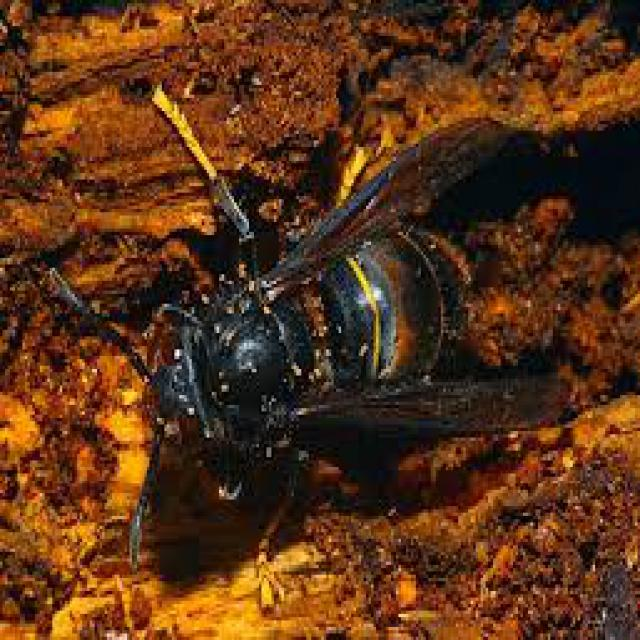Vespa Velutina: (36, 81, 571, 576)
